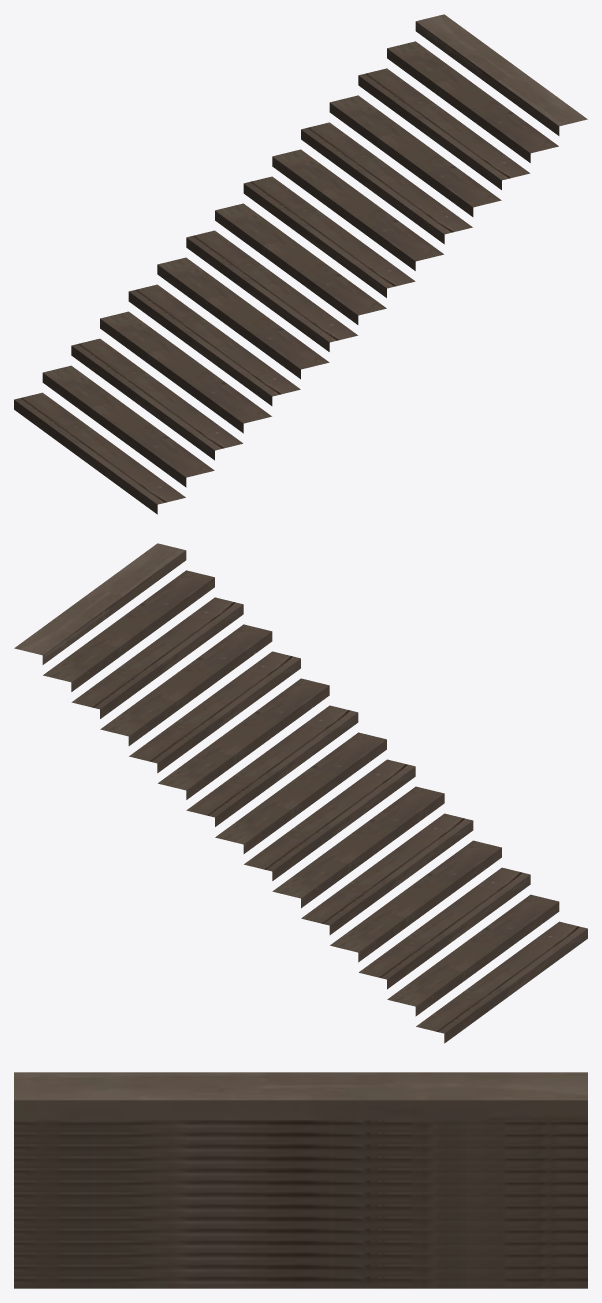
3 views of the same model, one above another, from view 1: azimuth 30°, elevation 25°; view 2: azimuth 150°, elevation 25°; view 3: azimuth 270°, elevation 25° (orthographic). The views are drawn at different scales.
Parts seen in each view (by area): view 1: body0_model0_lod0_mesh0; view 2: body0_model0_lod0_mesh0; view 3: body0_model0_lod0_mesh0.
Boxes of the visible parts, x1,y1,x2,y2 form: body0_model0_lod0_mesh0: [14, 14, 587, 514]; body0_model0_lod0_mesh0: [14, 543, 587, 1043]; body0_model0_lod0_mesh0: [14, 1072, 587, 1288].
Bounding box in the file's own units: 180 × 116 × 104.
1 material, 1 textured.
